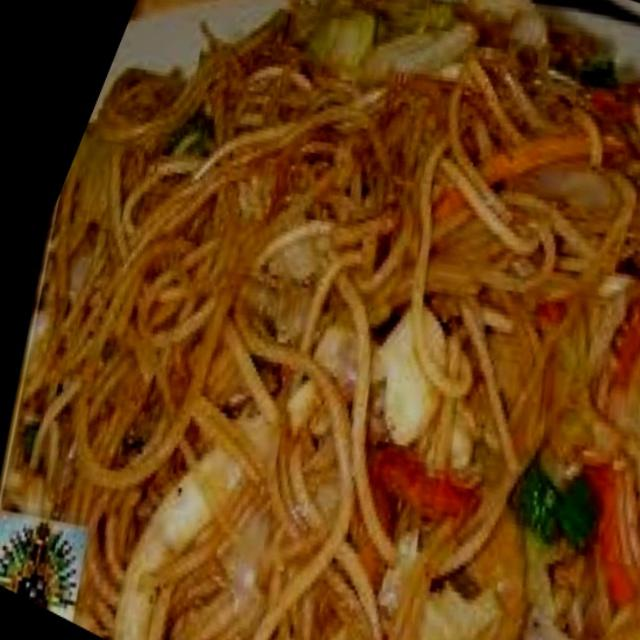pancit bihon: (0, 0, 639, 639)
